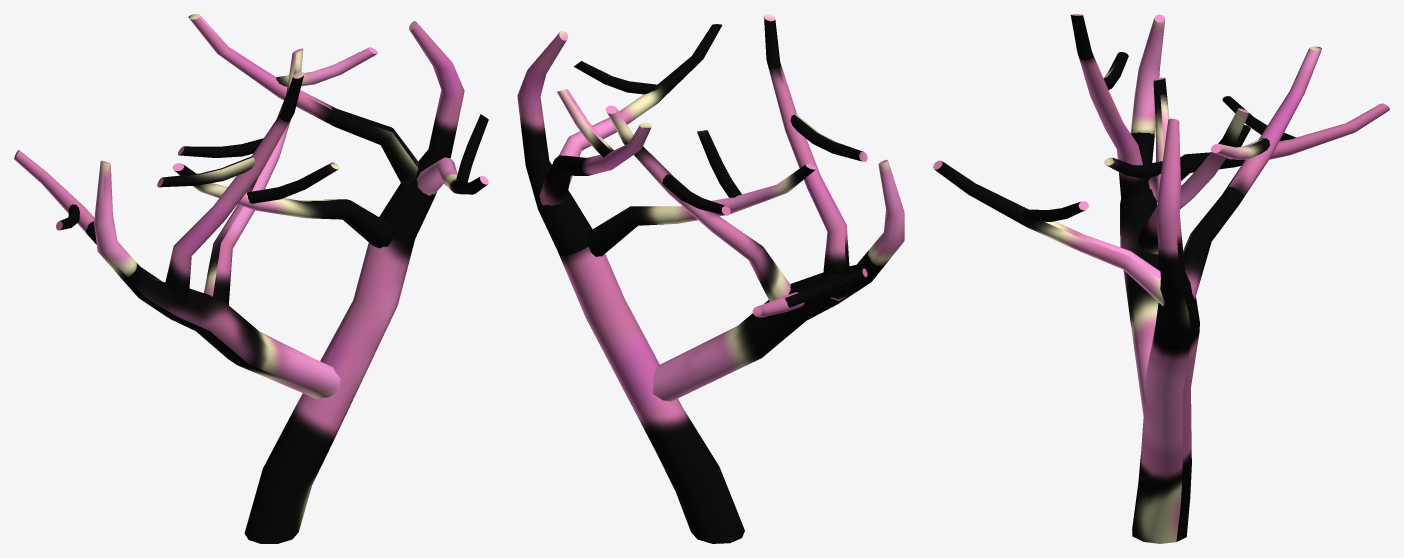
The model's file is DeadTree_3.obj.
3 views of the same model, side by side, from view 1: azimuth 30°, elevation 25°; view 2: azimuth 150°, elevation 25°; view 3: azimuth 270°, elevation 25° (orthographic). The views are drawn at different scales.
Parts seen in each view (by area): view 1: DeadTree_3_Cylinder.044; view 2: DeadTree_3_Cylinder.044; view 3: DeadTree_3_Cylinder.044.
Boxes of the visible parts, x1,y1,x2,y2 form: DeadTree_3_Cylinder.044: (14, 14, 488, 543); DeadTree_3_Cylinder.044: (517, 14, 904, 543); DeadTree_3_Cylinder.044: (933, 14, 1389, 543).
Size of the model in its own units: 4.5 by 5.62 by 4.52.
1 material, 1 textured.
